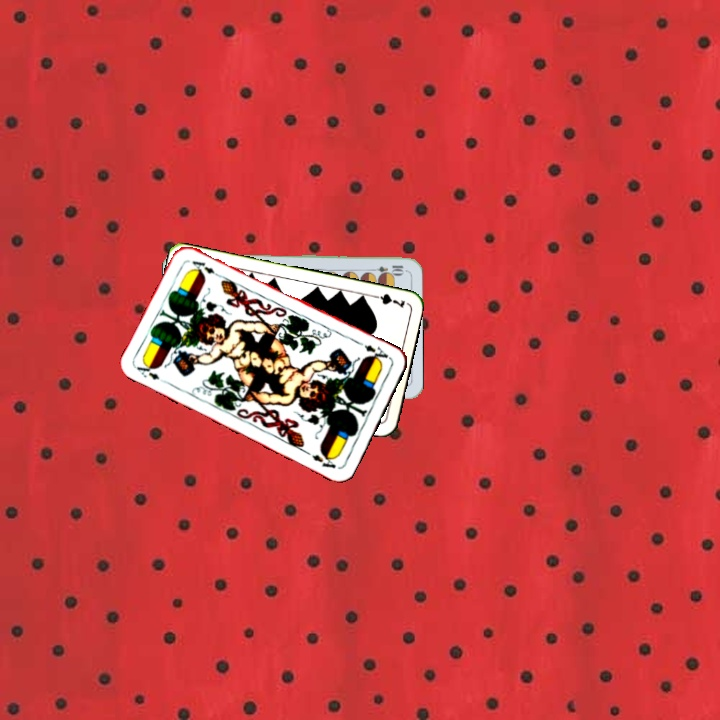E10: (366, 261, 406, 275)
EA: (133, 358, 170, 386), (360, 340, 394, 365)
G7: (367, 290, 407, 311)
